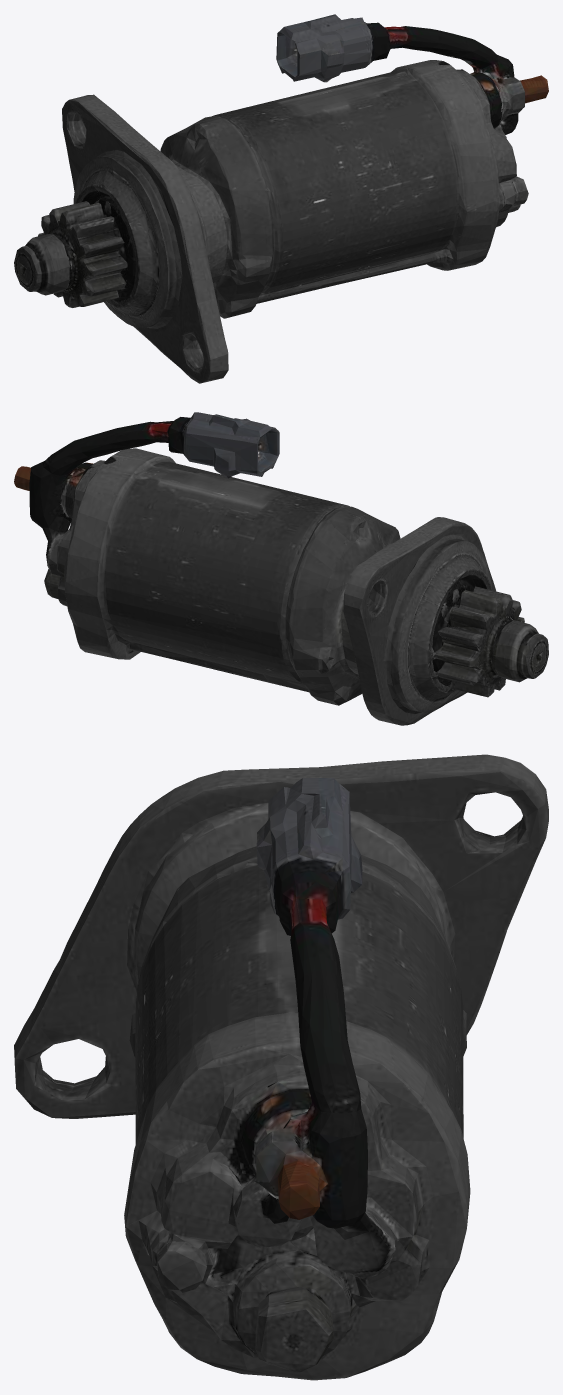
The model's file is starter_ok.glb.
The picture shows the model from 3 angles, top to bottom: view 1: azimuth 30°, elevation 25°; view 2: azimuth 150°, elevation 25°; view 3: azimuth 270°, elevation 25°; orthographic projection. The views are drawn at different scales.
Parts seen in each view (by area): view 1: starter_ok; view 2: starter_ok; view 3: starter_ok.
Part boxes in pixels (bbox=[...]): starter_ok: bbox=[14, 14, 548, 383]; starter_ok: bbox=[14, 412, 548, 725]; starter_ok: bbox=[14, 754, 548, 1380].
Bounding box in the file's own units: 1.9 × 0.9175 × 0.9383.
1 material, 1 textured.
